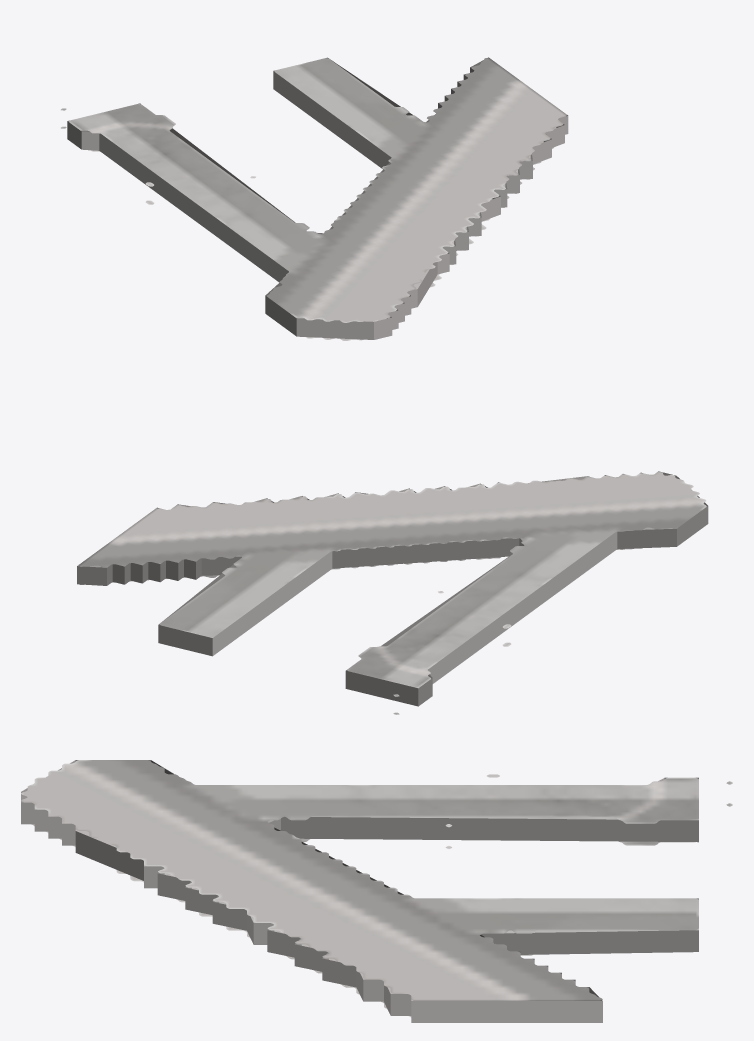
The model's file is pz_native_fixtures_railings_01_137_frame.obj.
The picture shows the model from 3 angles, top to bottom: view 1: azimuth 30°, elevation 25°; view 2: azimuth 150°, elevation 25°; view 3: azimuth 270°, elevation 25°; orthographic projection. The views are drawn at different scales.
Parts seen in each view (by area): view 1: pz_native_fixtures_railings_01_137_frame; view 2: pz_native_fixtures_railings_01_137_frame; view 3: pz_native_fixtures_railings_01_137_frame.
Part boxes in pixels (x1=…): pz_native_fixtures_railings_01_137_frame: x1=61, y1=57, x2=568, y2=340; pz_native_fixtures_railings_01_137_frame: x1=77, y1=471, x2=708, y2=714; pz_native_fixtures_railings_01_137_frame: x1=21, y1=760, x2=732, y2=1022.
Bounding box in the file's own units: 1.09 × 0.045 × 1.35.
1 material, 1 textured.
